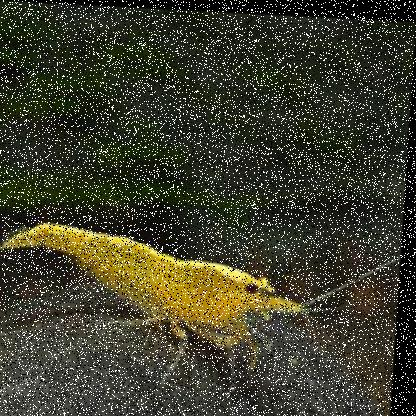shrimp: (0, 216, 336, 368)
